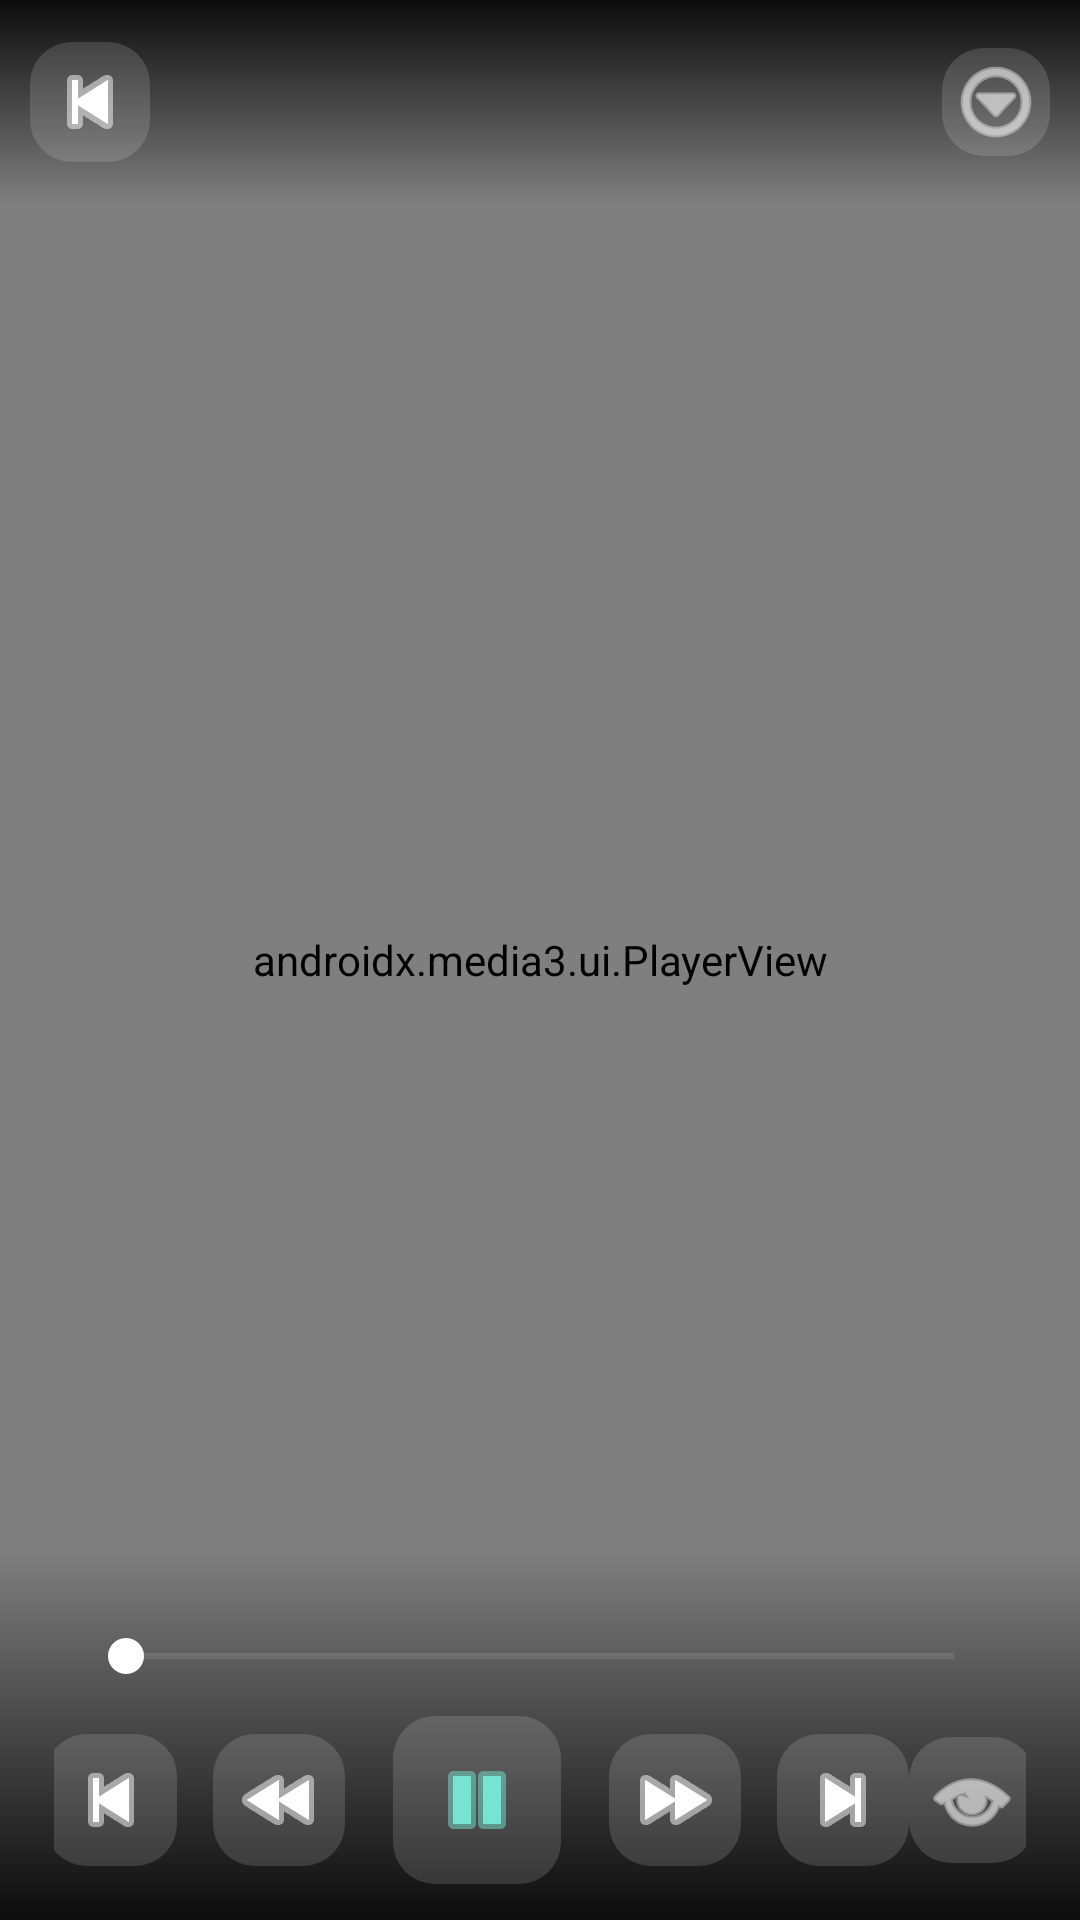

Where to tap for icons on this 1080*1920 app screen, as (x,y):
Forward 10 seconds: (675,1800)
Next video: (843,1800)
Play or pause: (477,1800)
Previous video: (115,1800)
Rewind 10 seconds: (279,1800)
